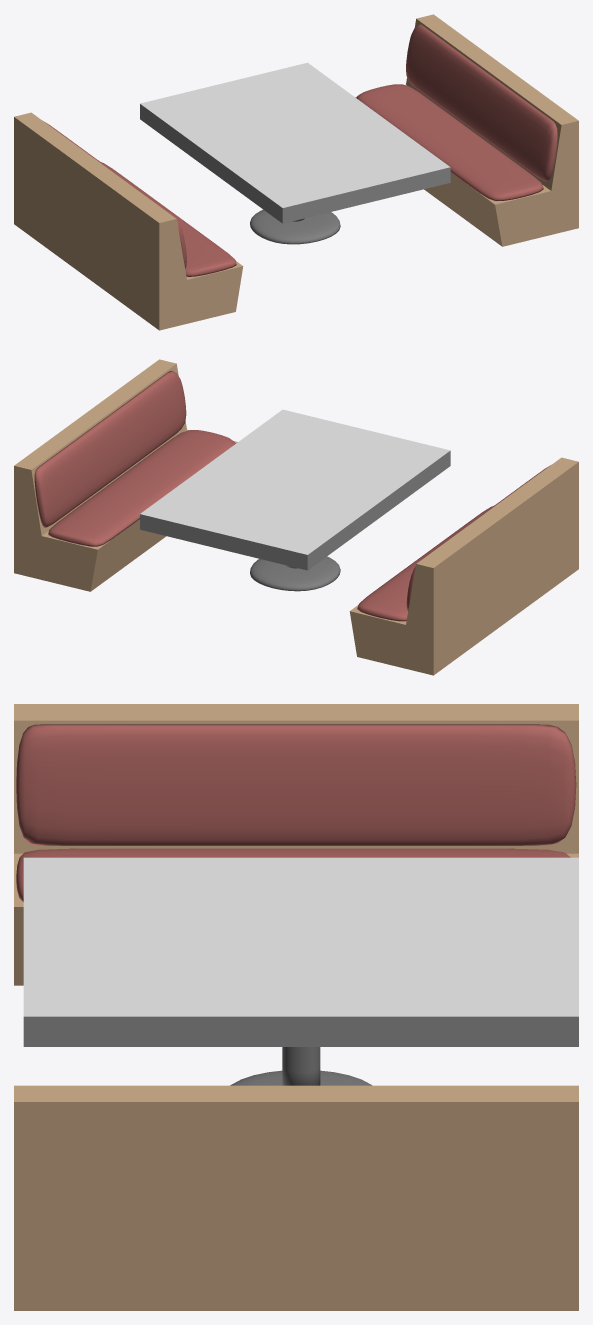
Rendered from tables_double.fbx.
3 views of the same model, one above another, from view 1: azimuth 30°, elevation 25°; view 2: azimuth 150°, elevation 25°; view 3: azimuth 270°, elevation 25° (orthographic). The views are drawn at different scales.
Parts seen in each view (by area): view 1: Cube.138; view 2: Cube.138; view 3: Cube.138.
Boxes of the visible parts, box(x1,y1,x2,y2) form: Cube.138: box(14, 14, 578, 330); Cube.138: box(14, 359, 578, 675); Cube.138: box(14, 704, 578, 1310).
Bounding box in the file's own units: 500 × 300 × 122.
